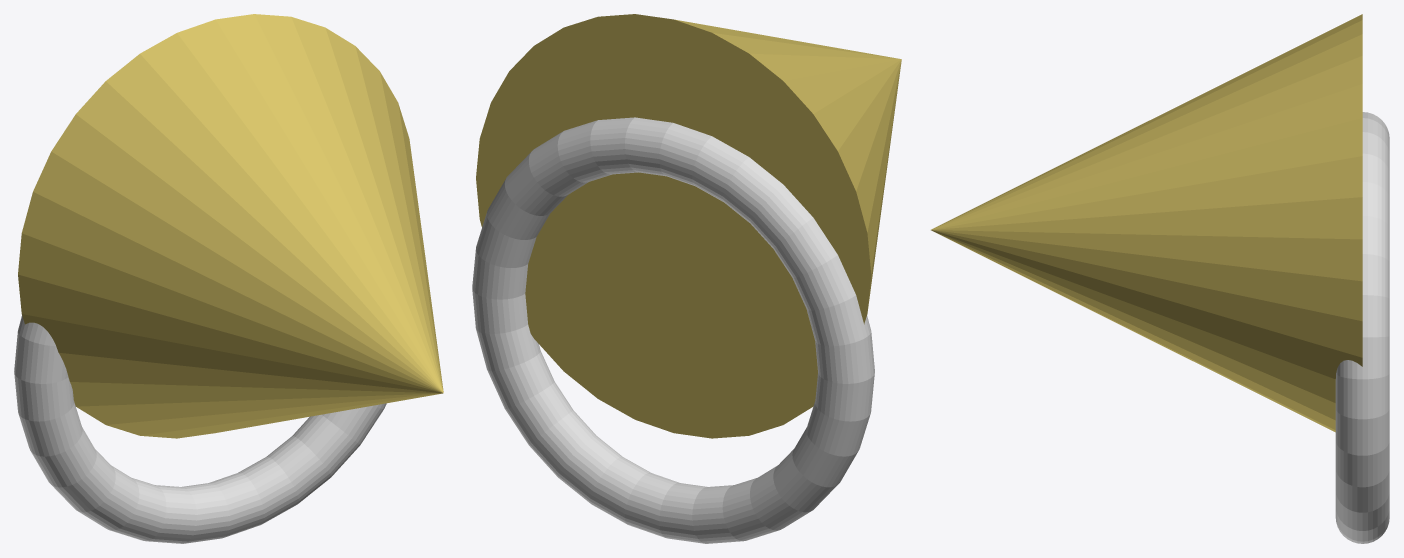
File: mrk_poi.glb
3 views of the same model, side by side, from view 1: azimuth 30°, elevation 25°; view 2: azimuth 150°, elevation 25°; view 3: azimuth 270°, elevation 25° (orthographic). The views are drawn at different scales.
Visible parts, largest first — view 1: world; view 2: world; view 3: world.
Part boxes in pixels (box(x1,y1,x2,y2)): world: box(14, 14, 443, 543); world: box(472, 14, 901, 543); world: box(931, 14, 1389, 543).
Size of the model in its own units: 0.8 by 1 by 0.85.
